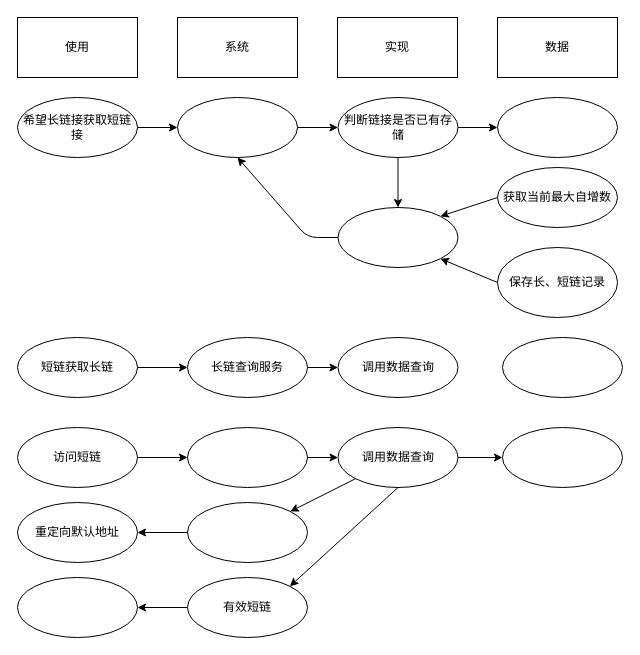
This 640x655 diagram has some shape labels left out. Here are the shapes that lost their labels. From the top down, the centre of each, then its label:
the point at 237,127: 短链转化服务
the point at 557,127: 根据url获取code
the point at 397,237: 生成code
the point at 562,367: 根据长链url获取短链code
the point at 247,457: 短链访问服务
the point at 562,457: 根据短链code获取长链url
the point at 247,532: 无效短链
the point at 77,607: 重定向到长链地址
